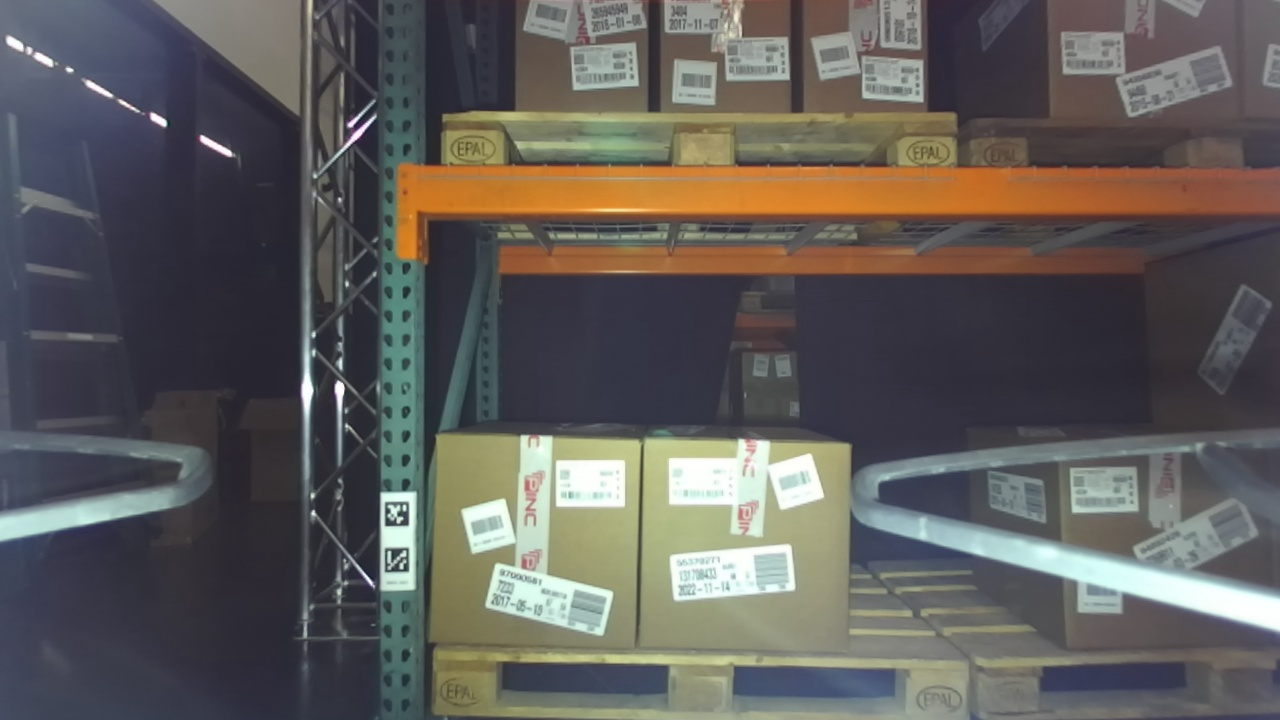box: (627, 419, 873, 680), (417, 410, 658, 670), (1048, 422, 1280, 668), (1024, 1, 1261, 146), (641, 1, 817, 145), (504, 1, 675, 134), (776, 1, 935, 136)
